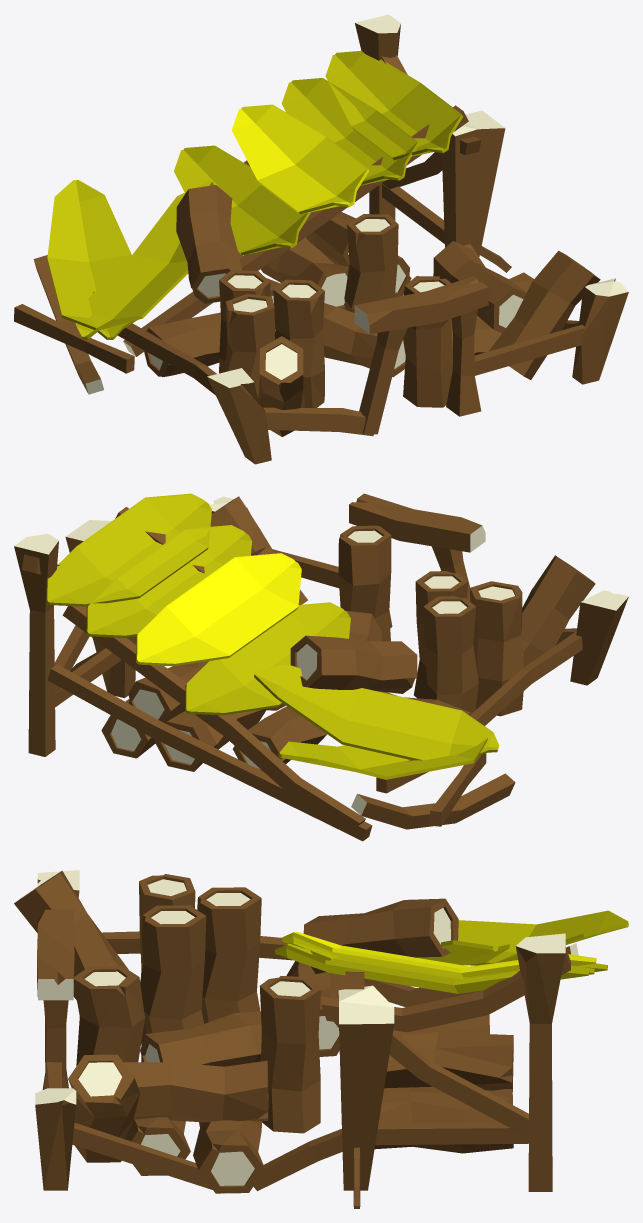
Rendered from Wood_storage_5.fbx.
3 views of the same model, one above another, from view 1: azimuth 30°, elevation 25°; view 2: azimuth 150°, elevation 25°; view 3: azimuth 270°, elevation 25° (orthographic). The views are drawn at different scales.
Visible parts, largest first — view 1: Cube.019; view 2: Cube.019; view 3: Cube.019.
Boxes of the visible parts, x1,y1,x2,y2 form: Cube.019: [14, 14, 628, 464]; Cube.019: [14, 493, 628, 841]; Cube.019: [14, 870, 628, 1208].
Bounding box in the file's own units: 6 × 6.21 × 3.
